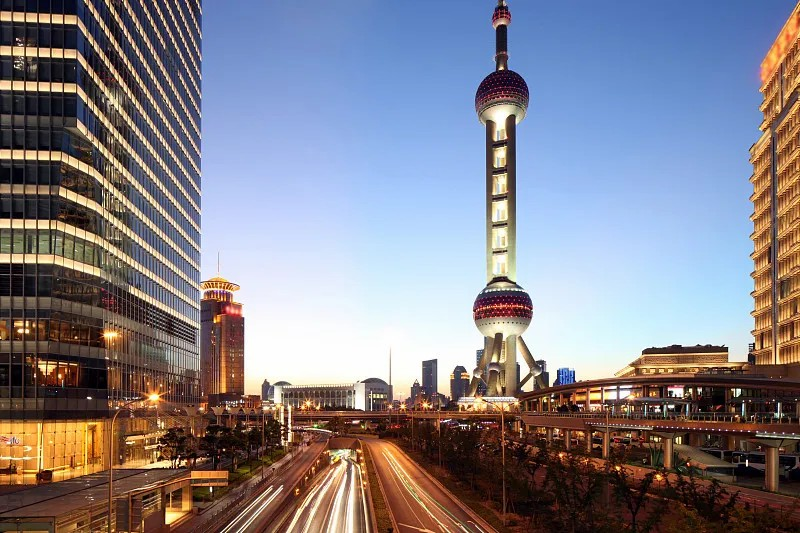Oriental: (468, 1, 548, 396)
